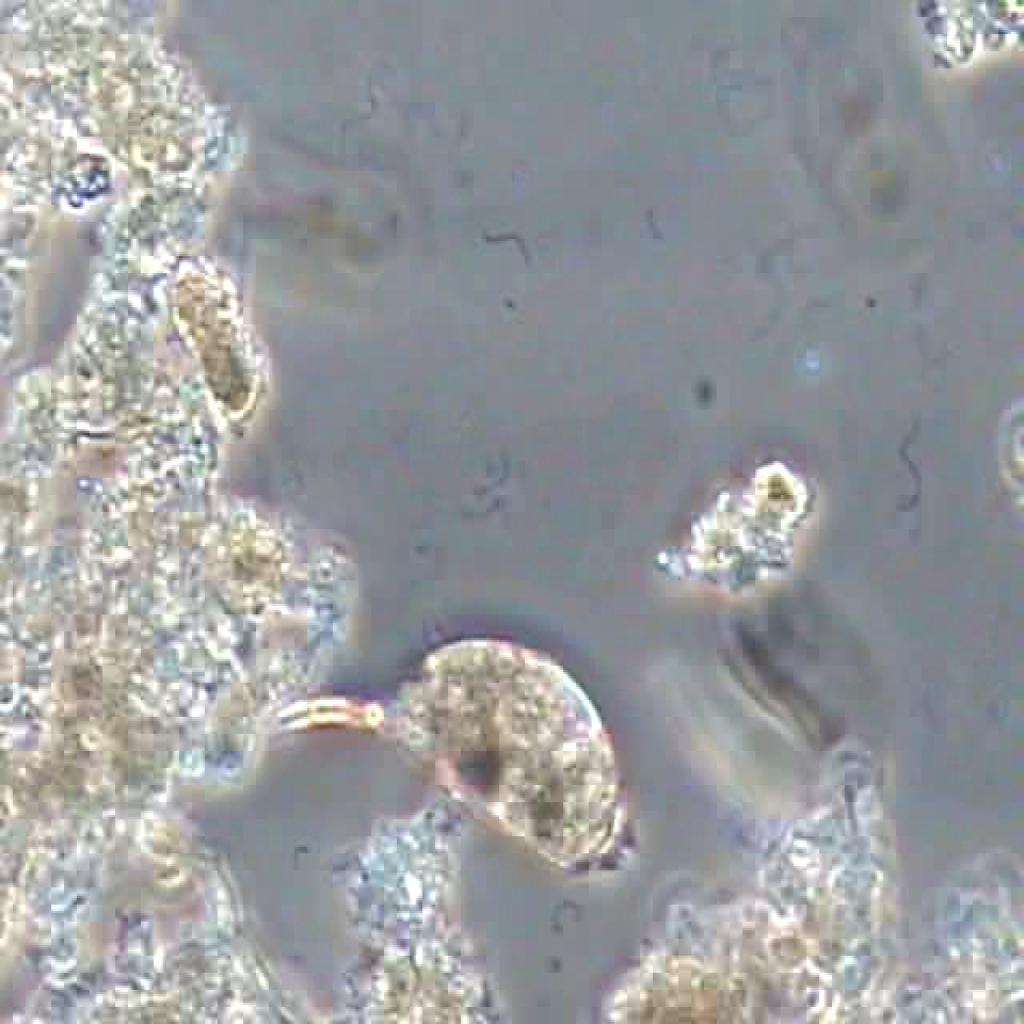Rotatoria: (254, 622, 648, 899)
